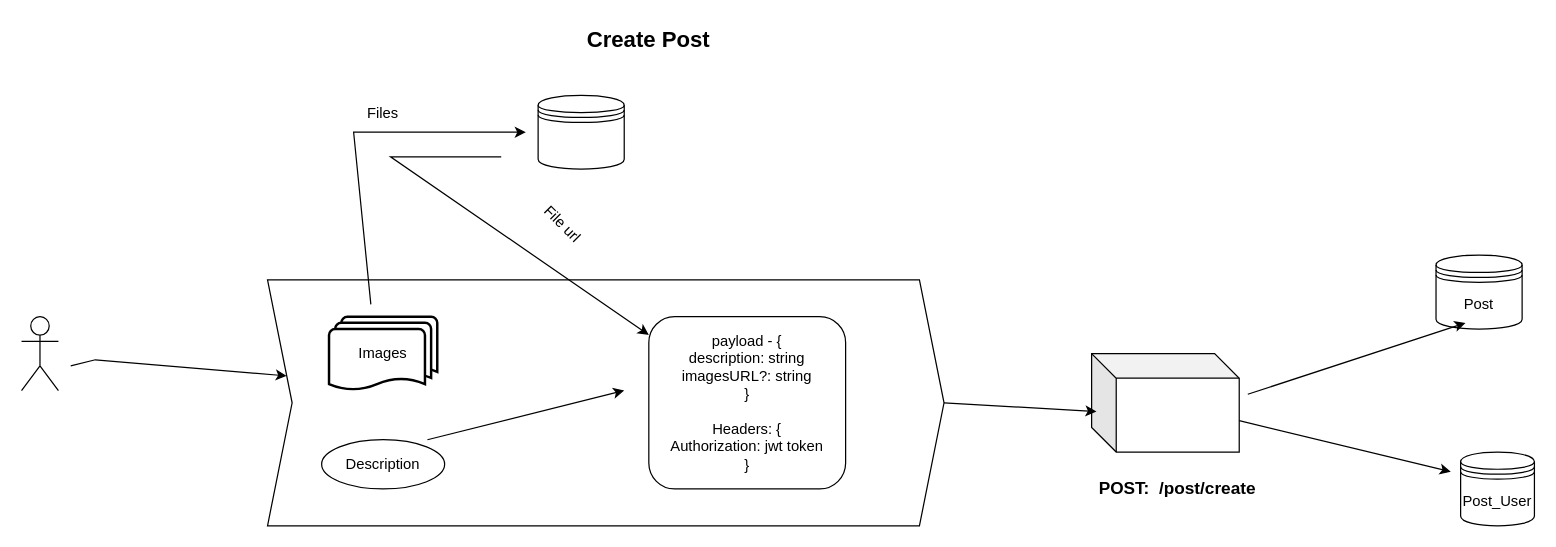
Image size: 1556x547. Some labels were removed from this diagram. The shapes that lost their labels are listed below. From the top down, each one's centre as x and y in pixels, then its label:
At [580,131]: "Asset Storage".
At [39,353]: "Actor".
At [1164,402]: "Post Services".
